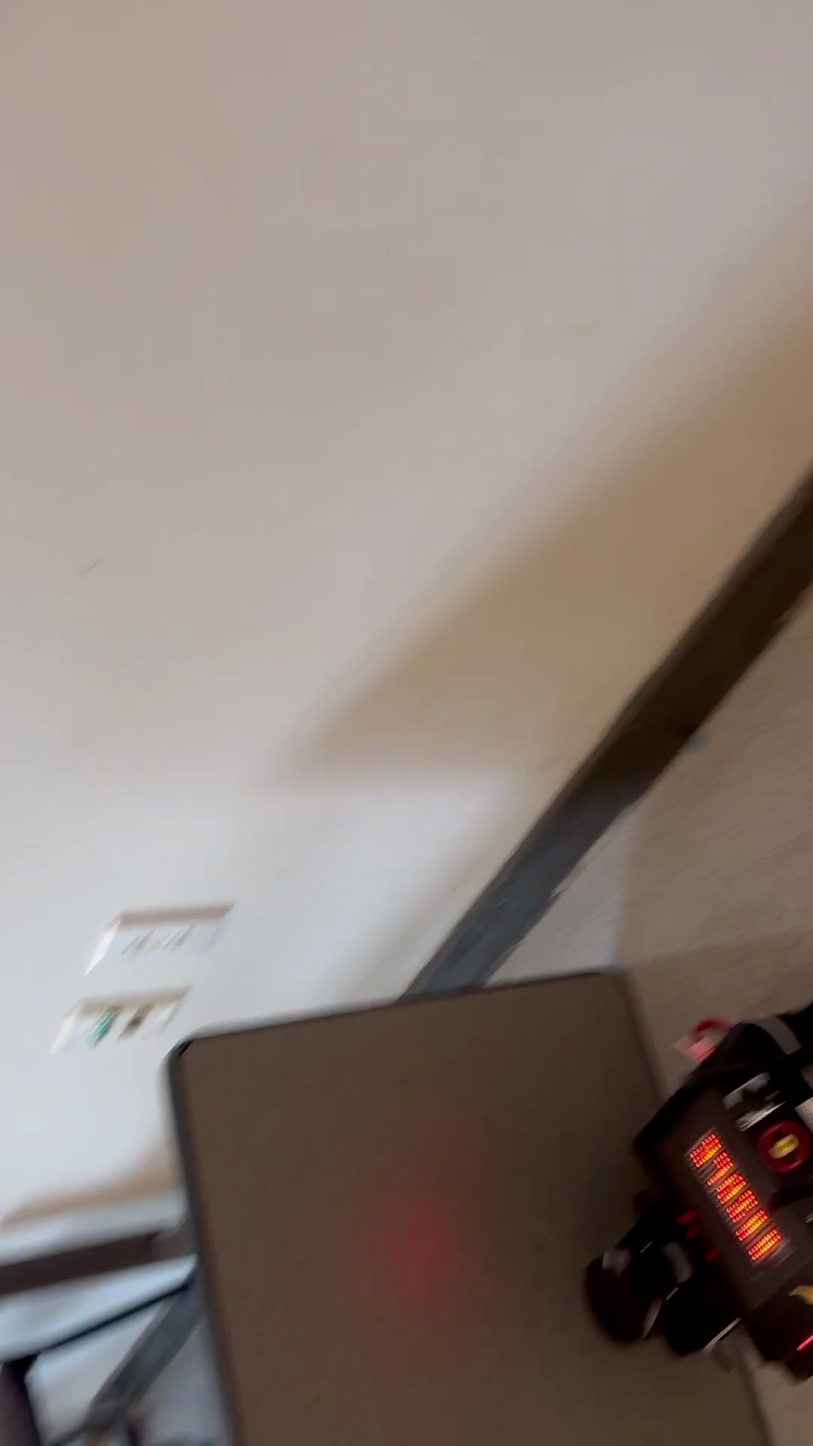racecar: (583, 1014, 813, 1392)
